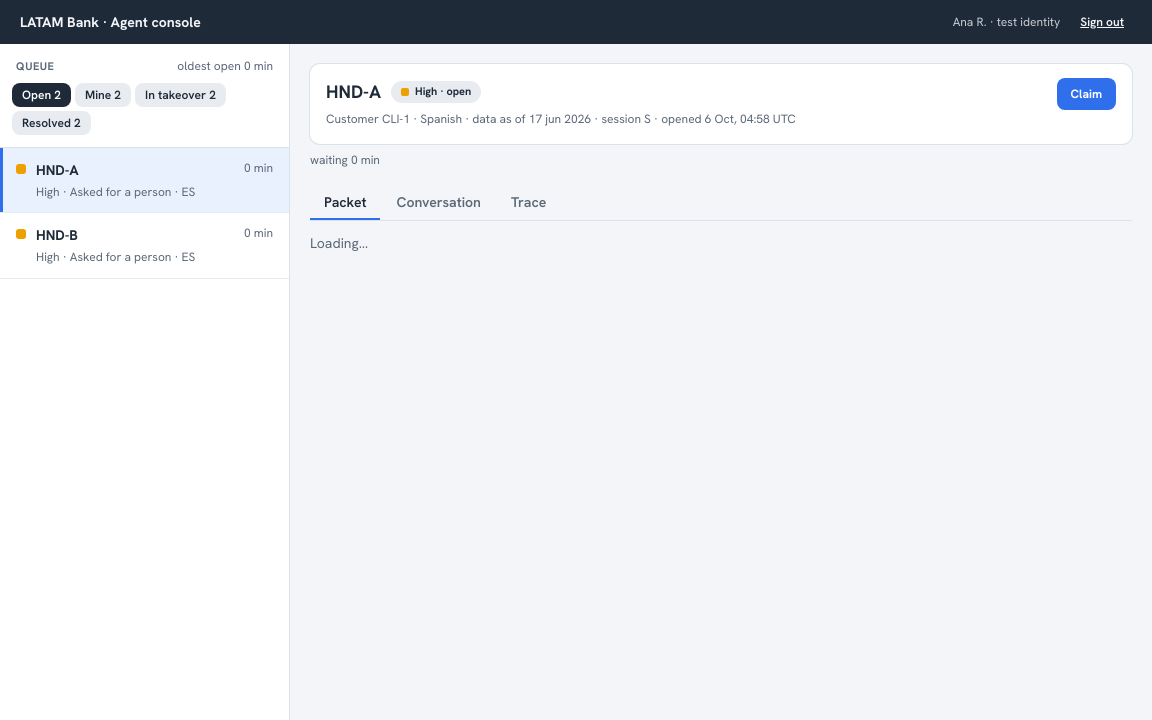
Test: Console › does not reload the acted-on case over a newly selected one
This screenshot has width=1152, height=720.
Click the button "Claim" at (1086, 94), box [1056,78,1116,110]
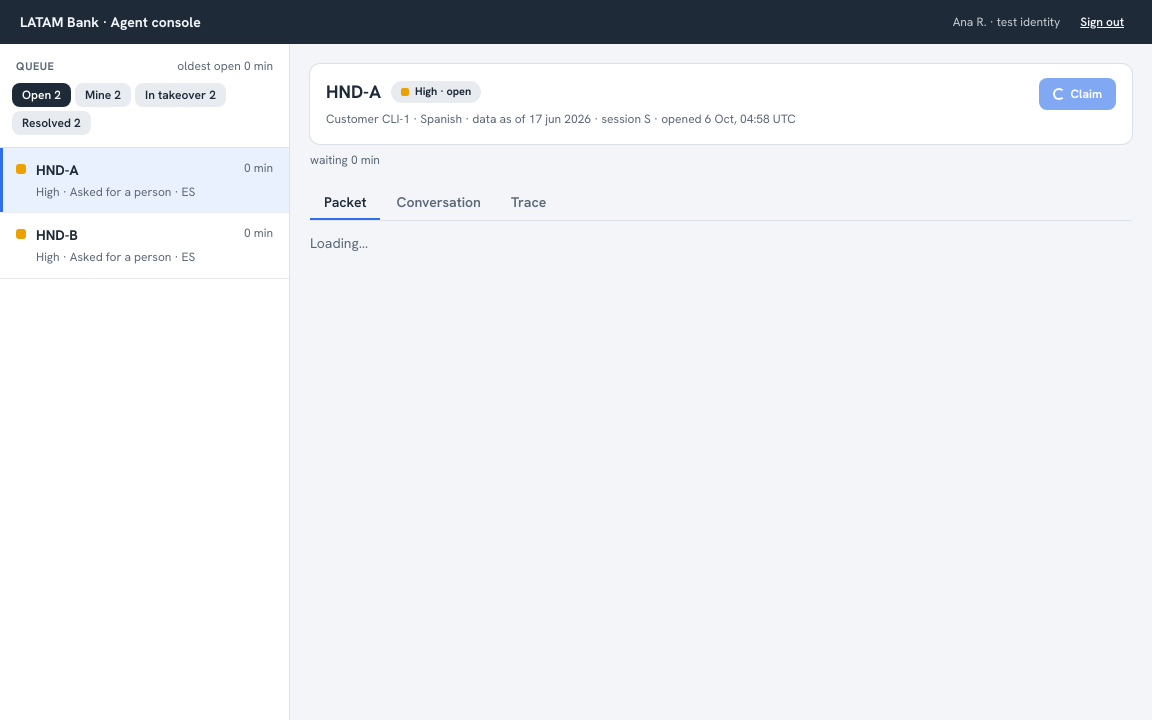
Click the option "HND-B 0 min High · Asked for a person · ES" at (57, 235), box [0,213,289,278]
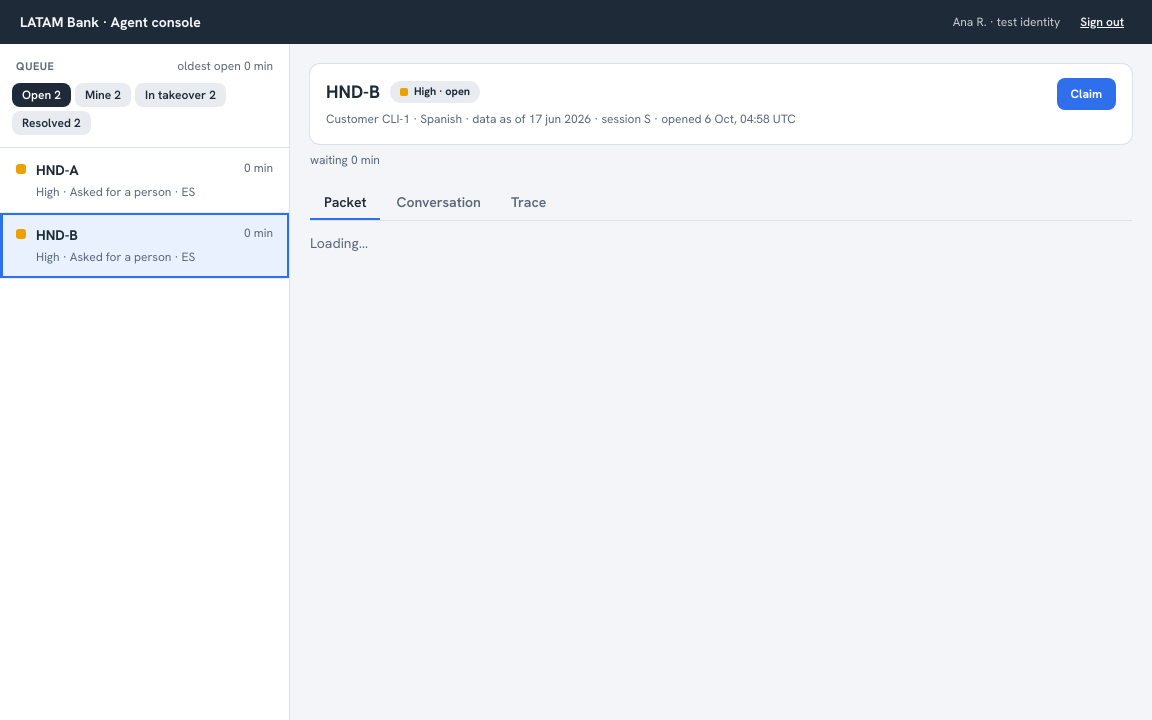
Expected: the heading "HND-B High · open" is shown, [326,80,480,103]
